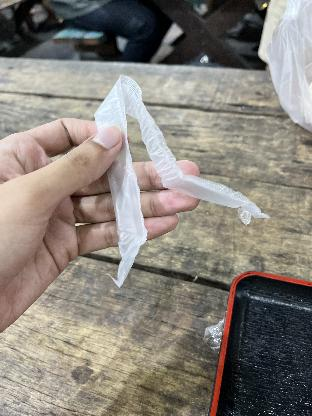Others: (81, 68, 265, 280)
